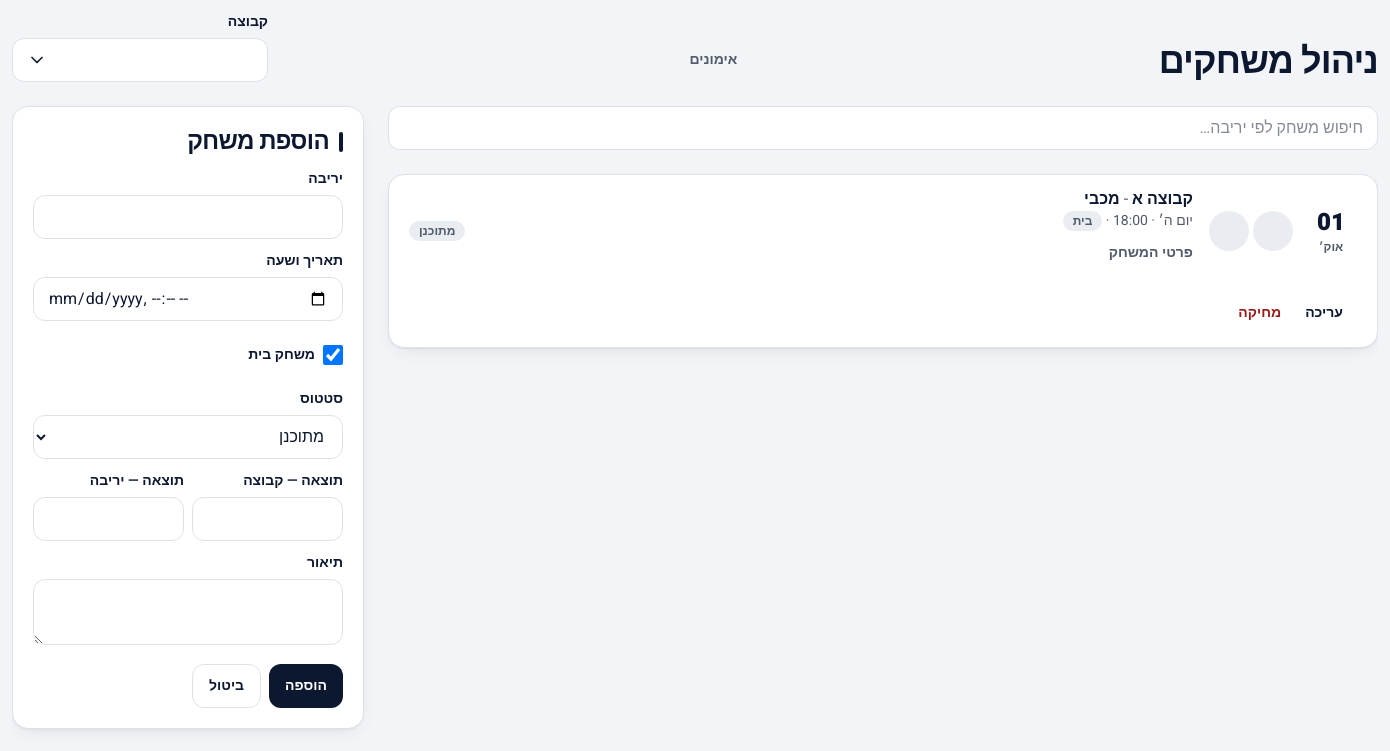
AdminGamesView › submitting the add-game form POSTs the payload and the new game appears in the list
This screenshot has width=1390, height=751.
Type "הפועל" into the field with id "game-opponent-name" at coordinates (188, 217), box [33,195,343,239]
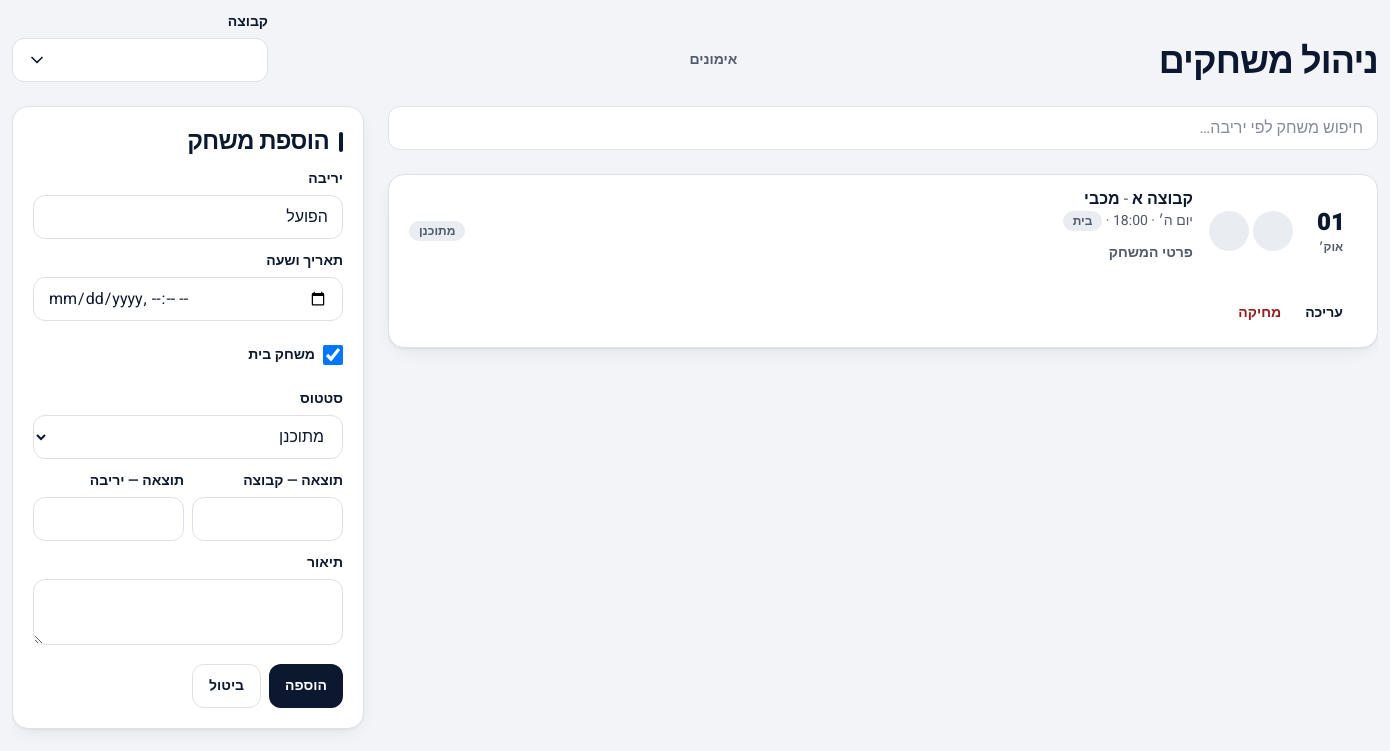
Type "2026-11-05T20:00" into the field with id "game-scheduled-at" at coordinates (188, 299), box [33,277,343,321]
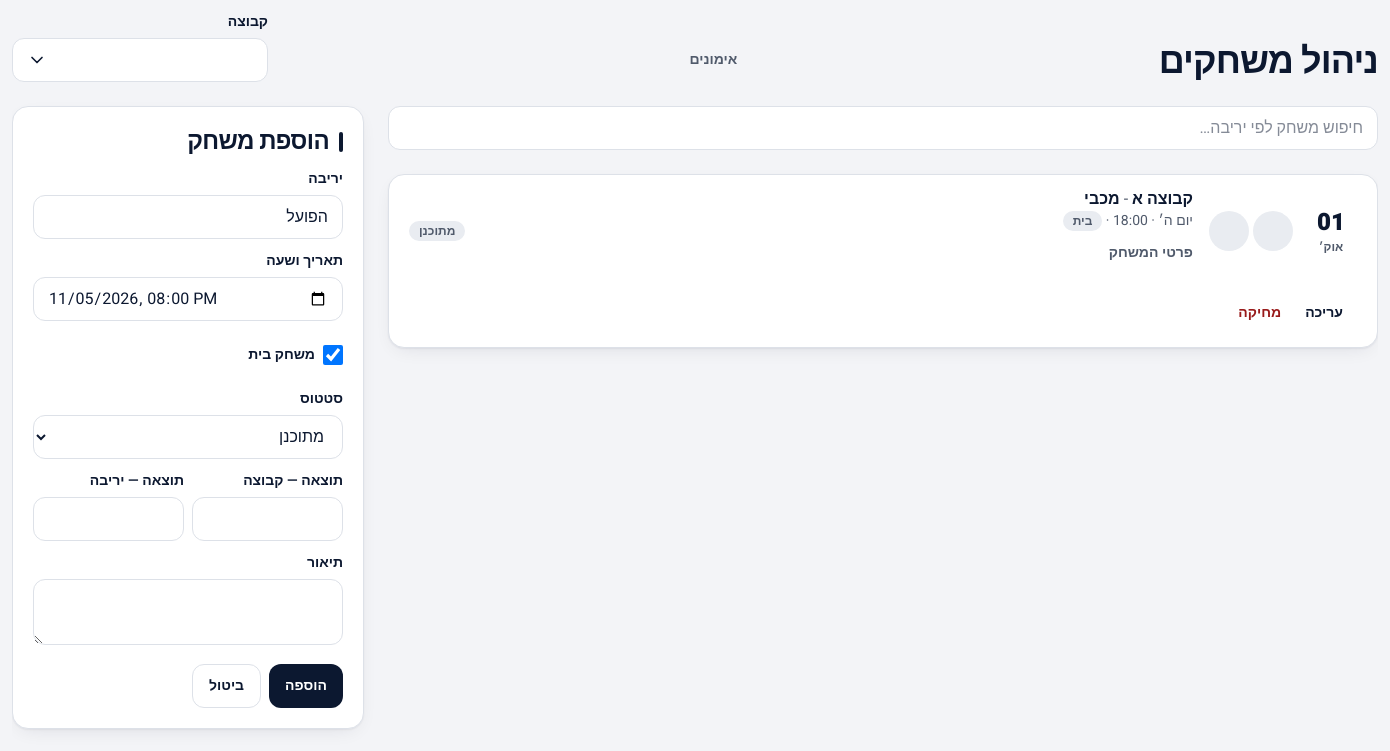
Submit the form, box [12,106,364,729]
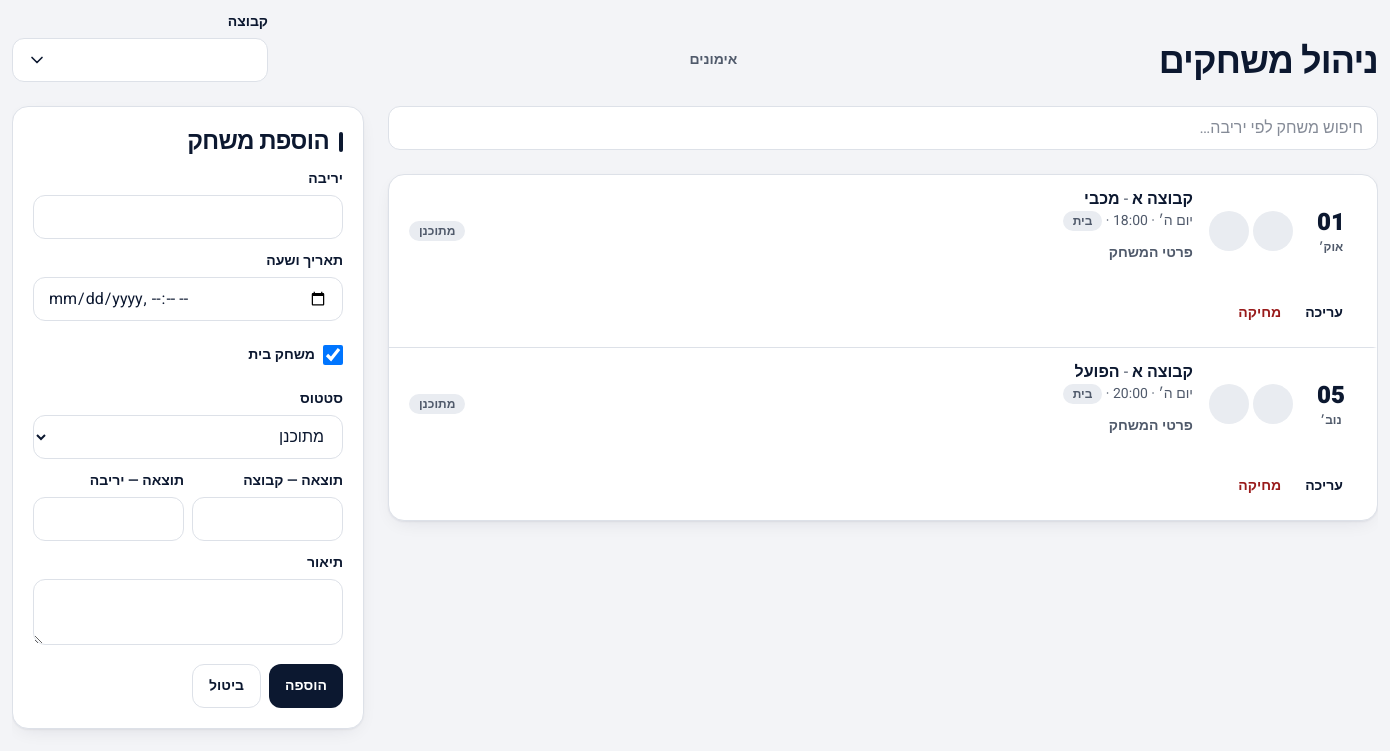
Result: the text "הפועל" is shown at [1074,360,1120,384]
